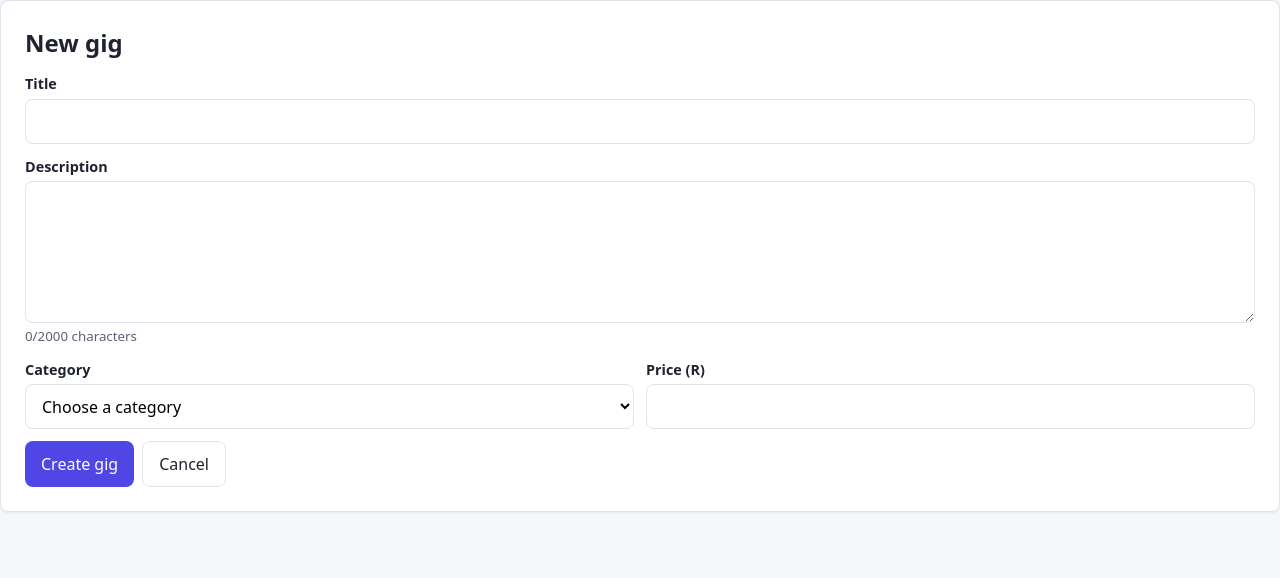
Test: GigForm component › shows an error for all four fields when submitted empty
The image size is (1280, 578).
What coordinates should you click on to do the following:
click the button "Create gig"
I would click on:
 (80, 464)
Its box is [25,441,134,487].
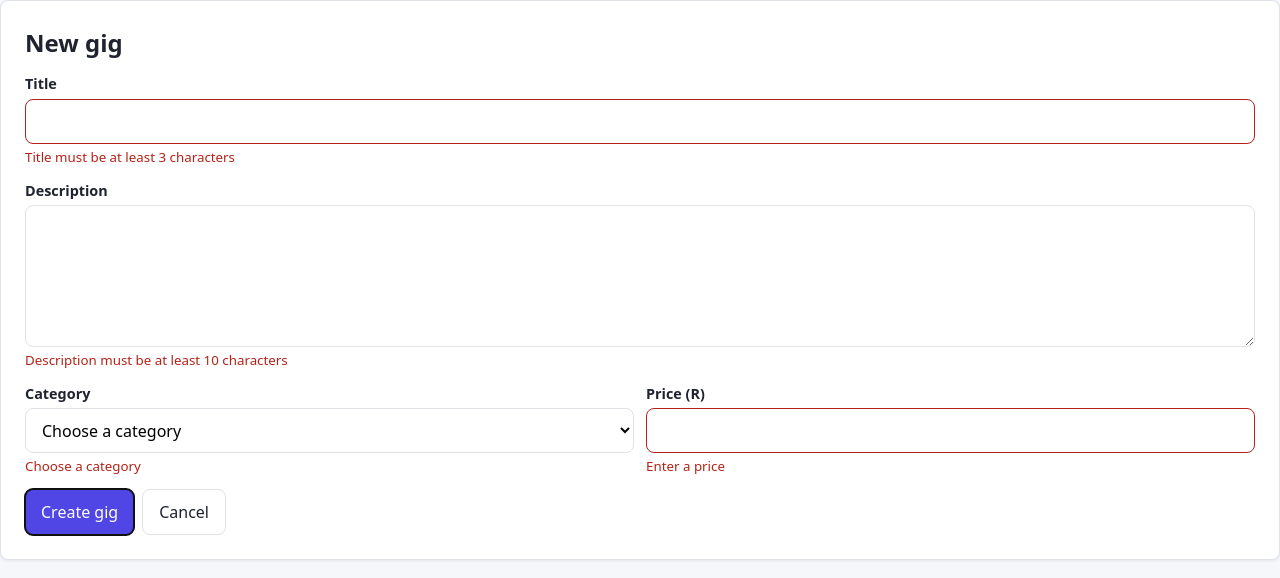
Now the text "Title must be at least 3 characters" is shown, box [25,148,235,166]
Now the text "Description must be at least 10 characters" is shown, box [25,351,288,369]
Now the text "Choose a category" is shown, box [25,457,141,475]
